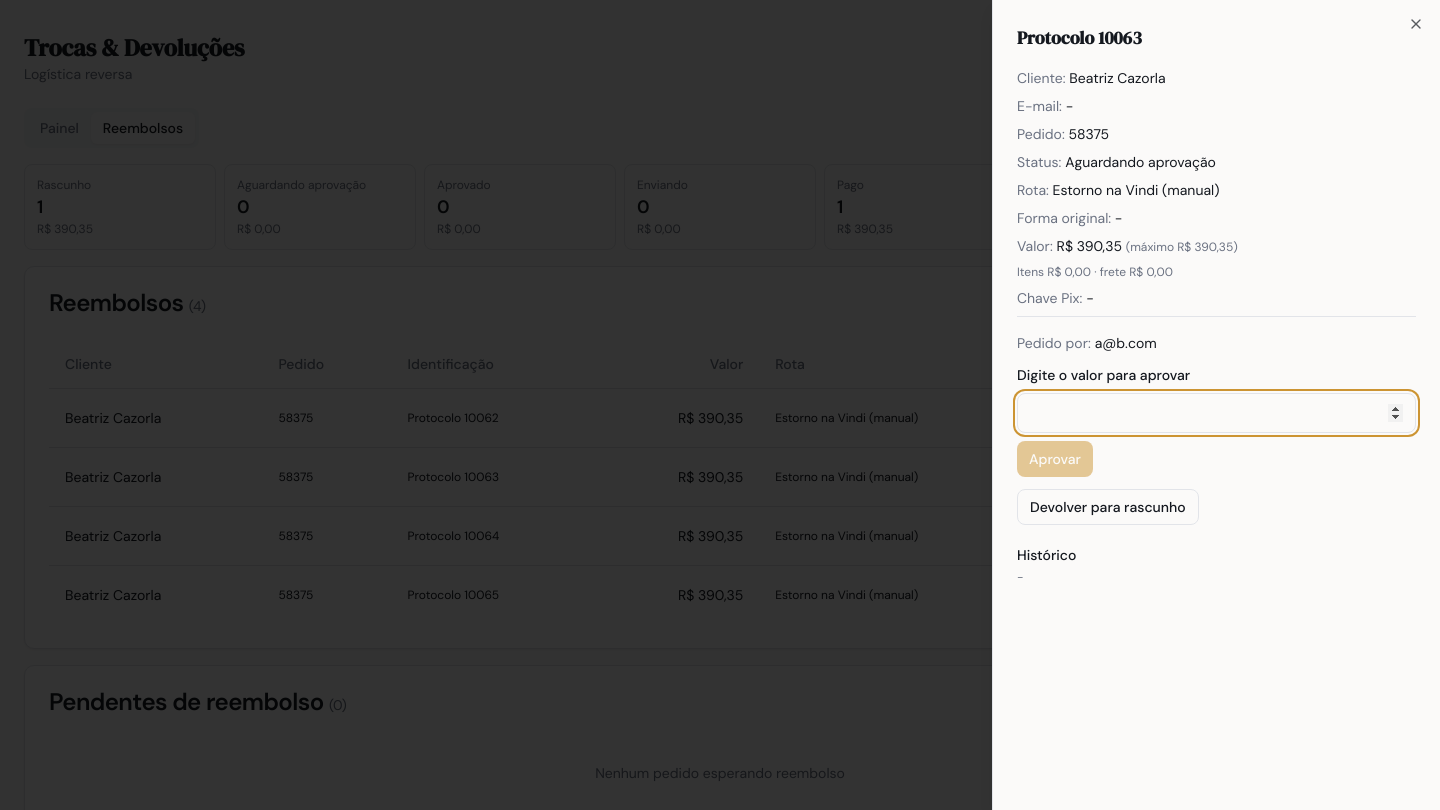
Scenario: ações do reembolso › aprovar com valor conferido
Step 1. Type "390.35" into the number field labelled "Digite o valor para aprovar" → (1216, 413), box [1017,393,1416,433]
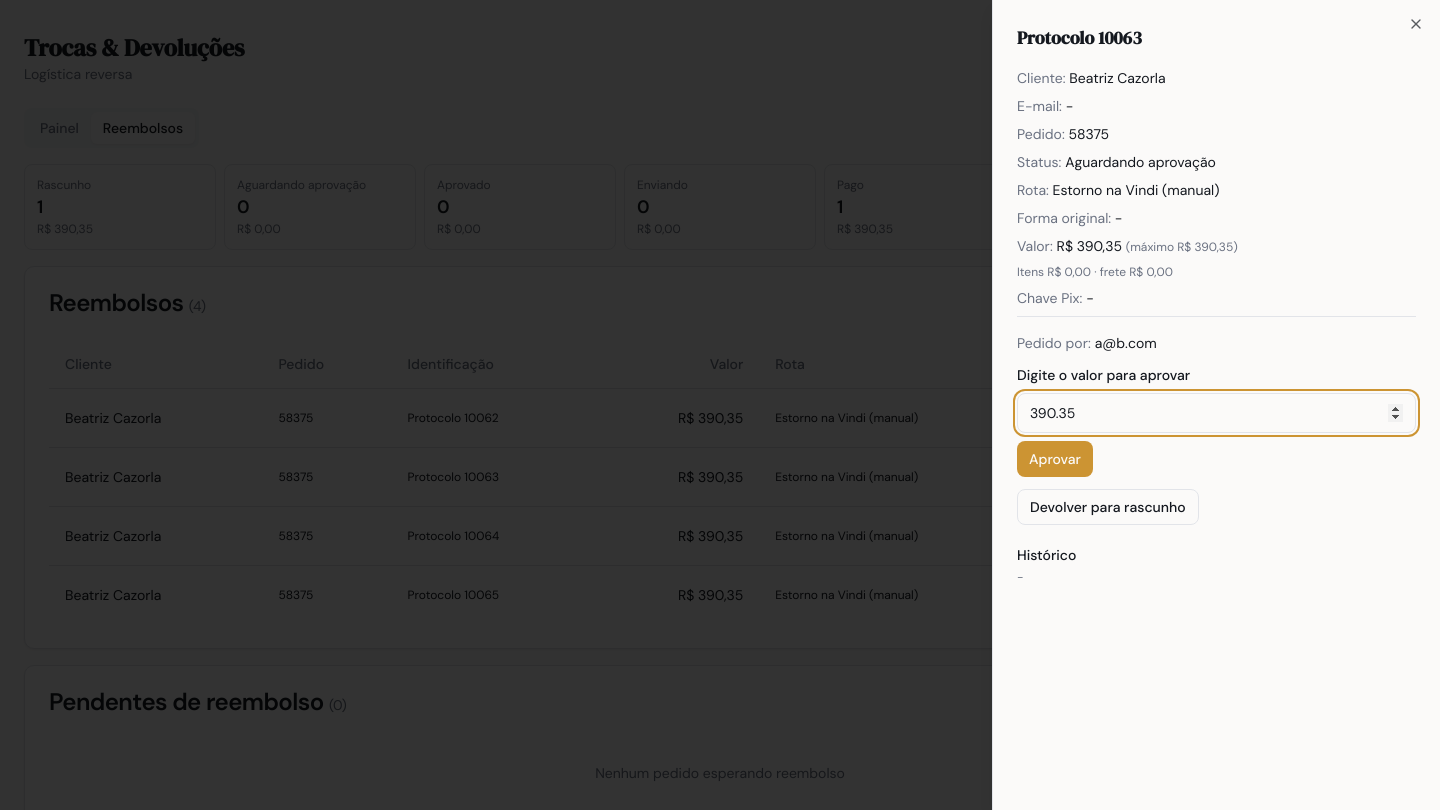
Step 2. Click the button "Aprovar" → (1055, 459), box [1017,441,1093,477]
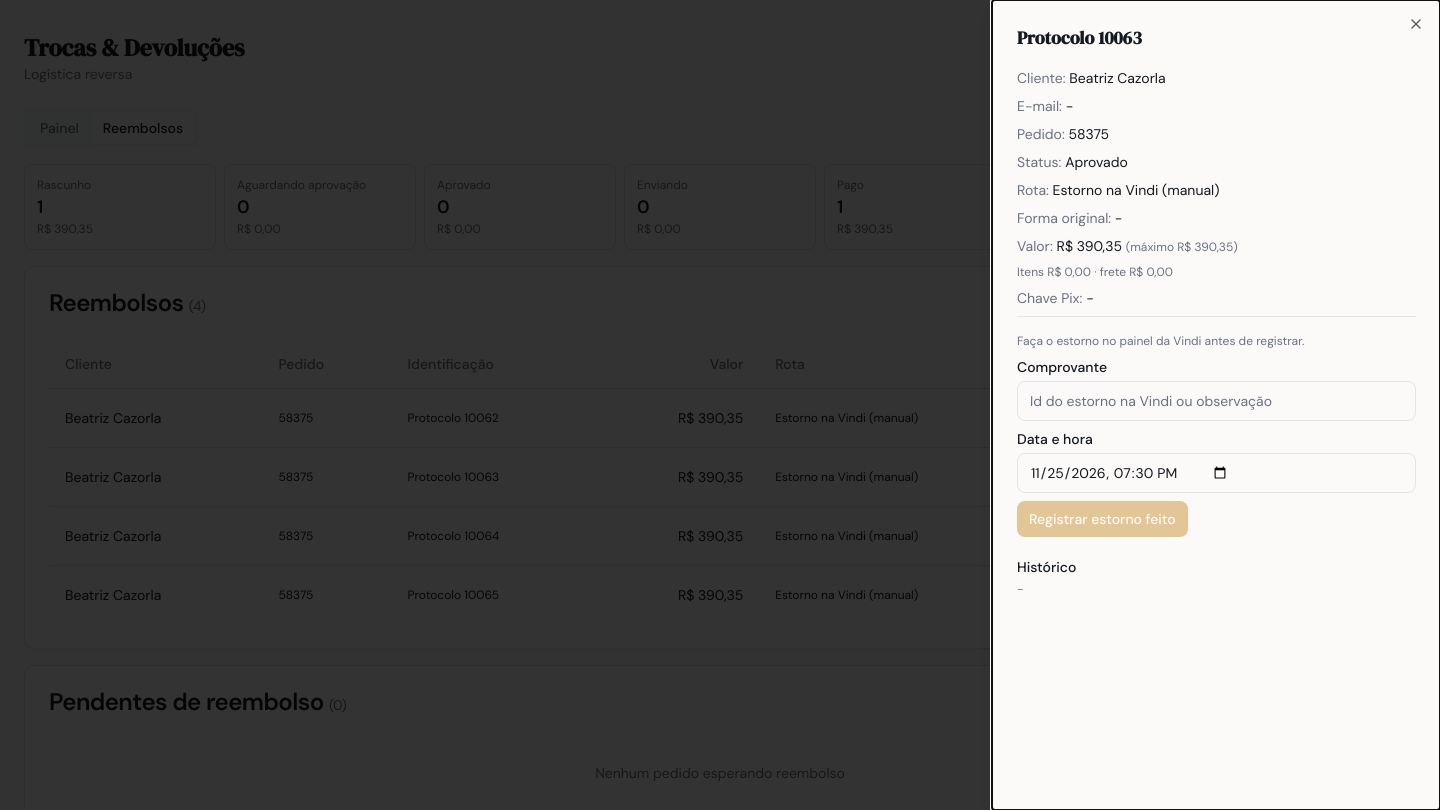
Now the button "Registrar estorno feito" is shown, box [1017,501,1188,537]
